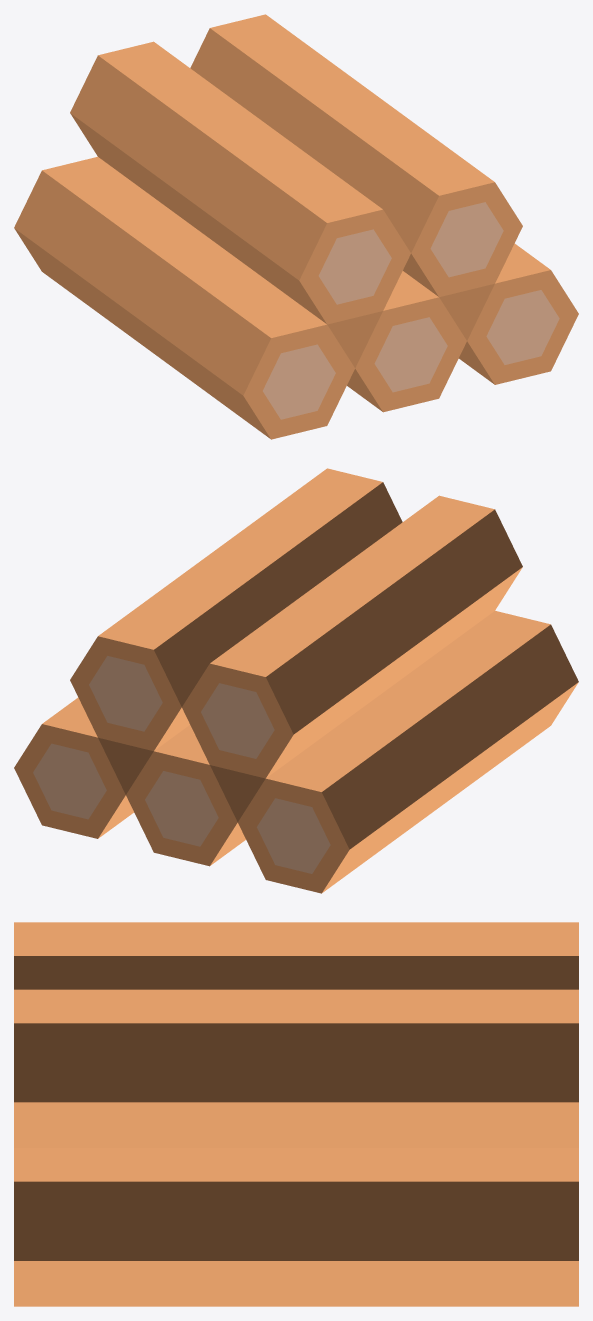
File: logs_stackLarge.obj
3 renders of one model, top to bottom at view 1: azimuth 30°, elevation 25°; view 2: azimuth 150°, elevation 25°; view 3: azimuth 270°, elevation 25°, orthographic. The views are drawn at different scales.
Parts seen in each view (by area): view 1: logs_stackLarge; view 2: logs_stackLarge; view 3: logs_stackLarge.
Boxes of the visible parts, x1=… form: logs_stackLarge: x1=14, y1=14, x2=578, y2=439; logs_stackLarge: x1=14, y1=468, x2=578, y2=893; logs_stackLarge: x1=14, y1=922, x2=578, y2=1306.
Size of the model in its own units: 6 by 3.46 by 7.1.
